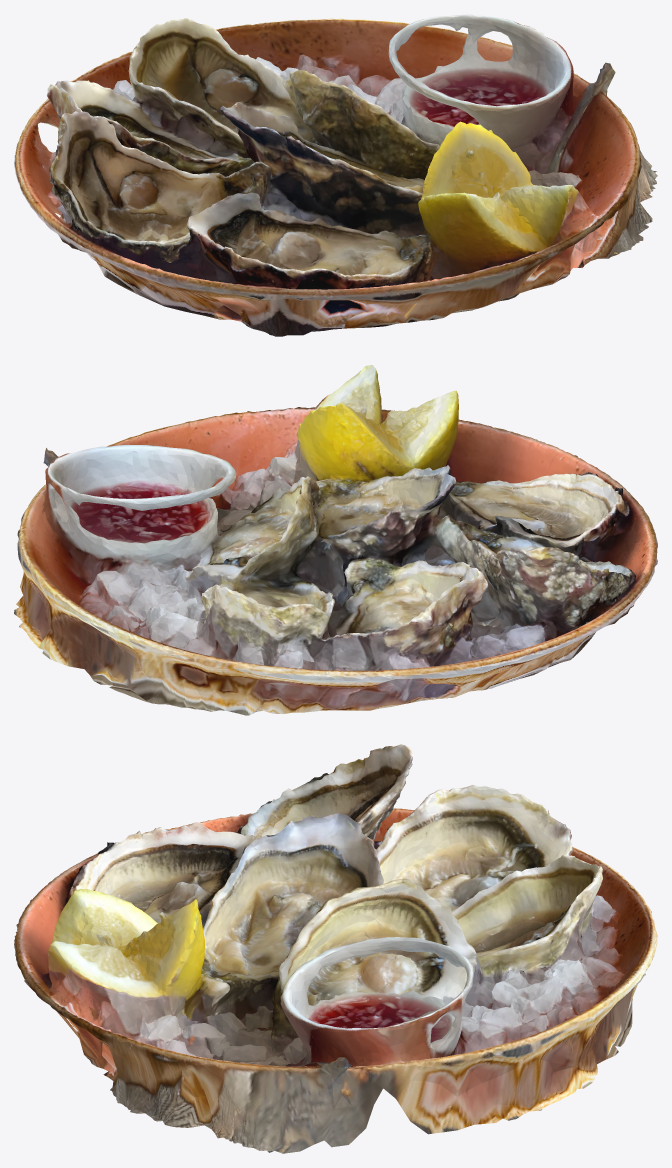
Rendered from ostras.glb.
3 views of the same model, one above another, from view 1: azimuth 30°, elevation 25°; view 2: azimuth 150°, elevation 25°; view 3: azimuth 270°, elevation 25° (orthographic). The views are drawn at different scales.
Visible parts, largest first — view 1: Object_4; view 2: Object_4; view 3: Object_4.
Part boxes in pixels (box(x1,y1,x2,y2)): Object_4: box(14, 14, 657, 336); Object_4: box(14, 365, 657, 715); Object_4: box(14, 744, 657, 1153).
Size of the model in its own units: 0.3 by 0.0694 by 0.2845.
Materials: 1 (1 with a texture image).
